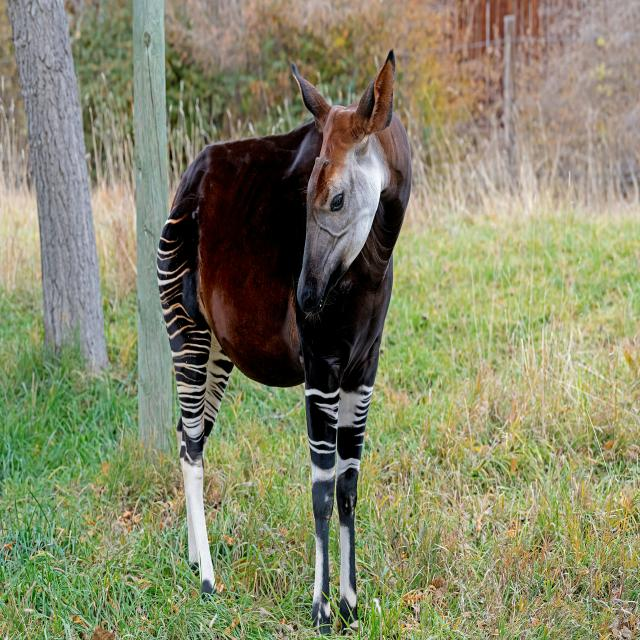Okapi: (155, 47, 414, 627)
